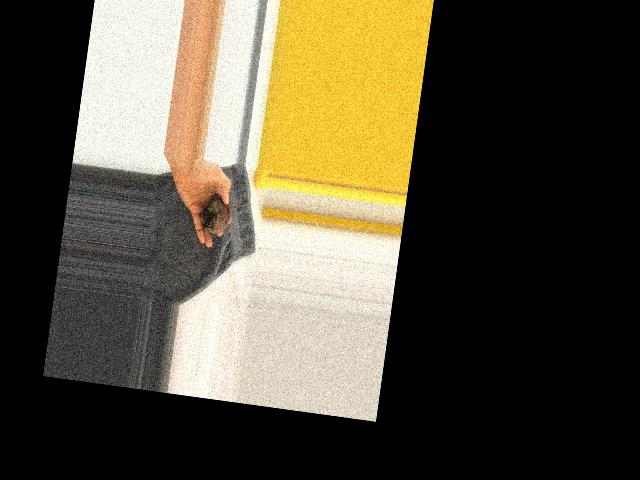beet: (198, 192, 252, 237)
